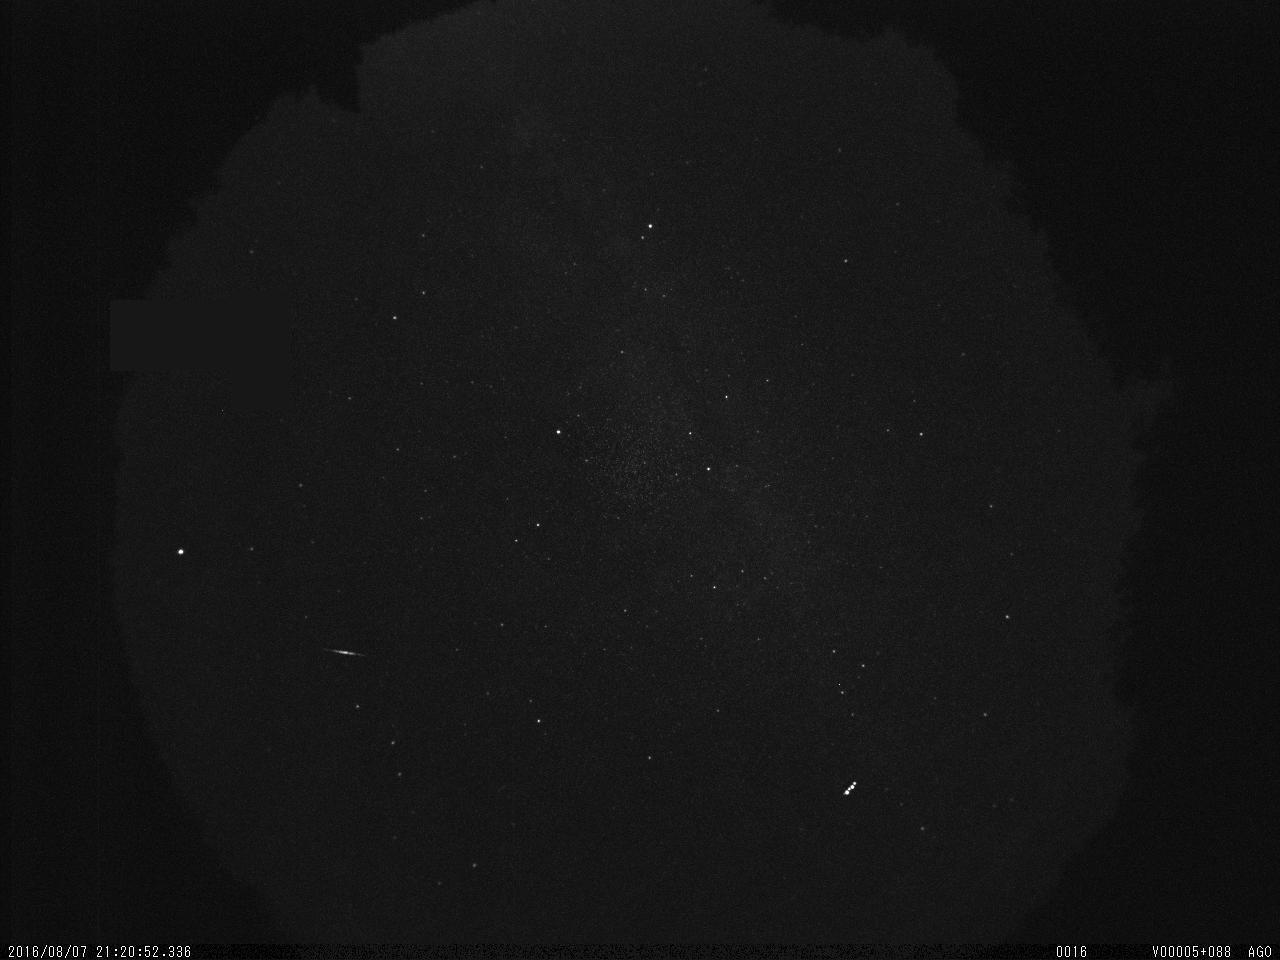meteor: (315, 638, 376, 668)
satelite: (835, 776, 867, 800)
